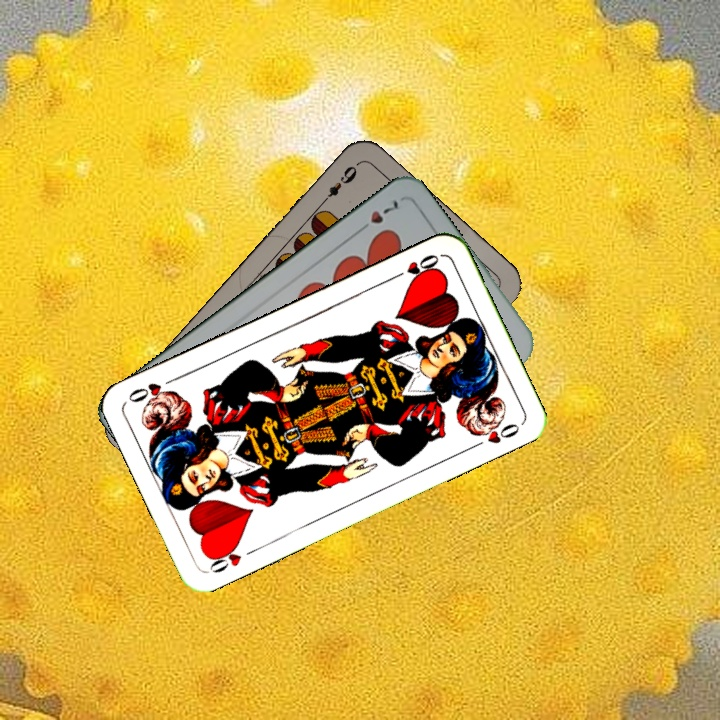E9: (317, 159, 361, 208)
H7: (353, 195, 401, 236)
HO: (203, 540, 260, 576), (387, 250, 442, 282)
